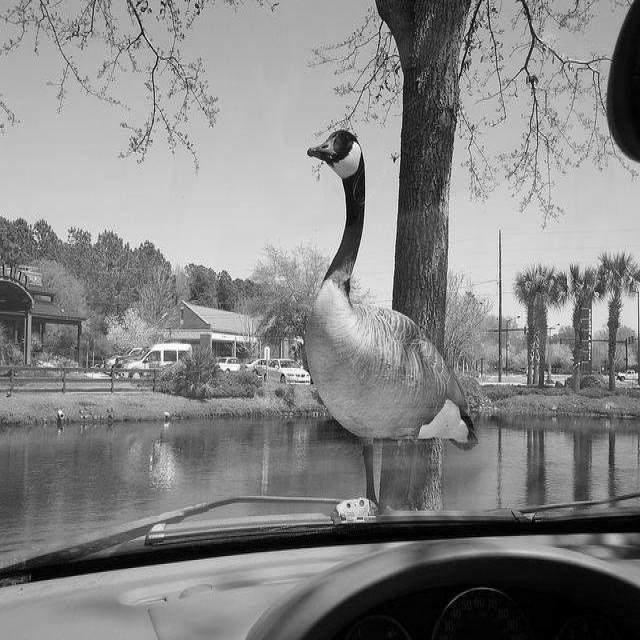vehicle: (120, 343, 191, 370), (112, 346, 150, 376), (266, 360, 311, 384), (102, 353, 124, 375), (245, 360, 267, 378), (81, 355, 103, 369), (220, 359, 241, 372), (617, 369, 638, 381)
